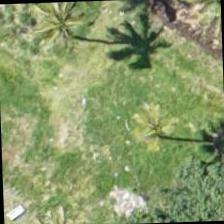Kelapa_Sawit: (102, 80, 195, 173), (10, 0, 102, 58)
